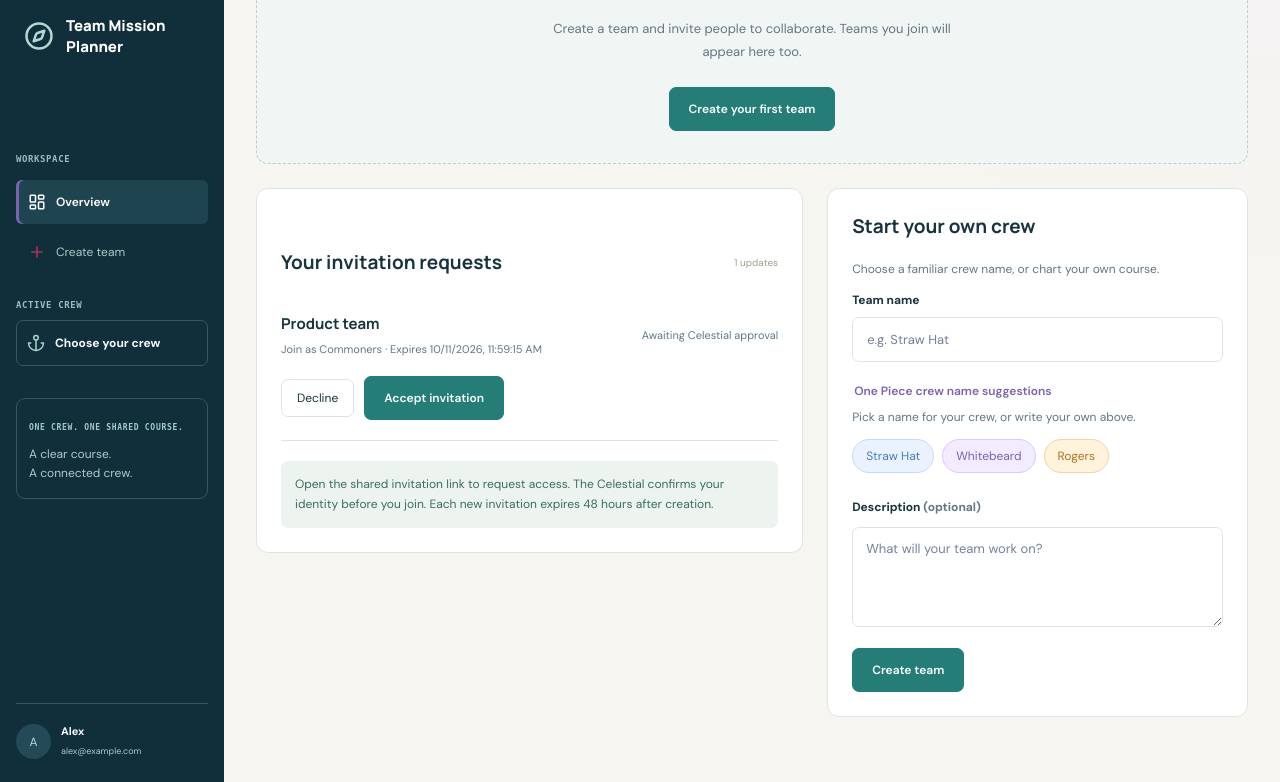
Test: Team and invitation screens › accepts an inbox invitation and navigates to the team
(page scrolled)
Click the button "Accept invitation". click: (434, 398)
box: left=364, top=376, right=504, bottom=420
(page scrolled)
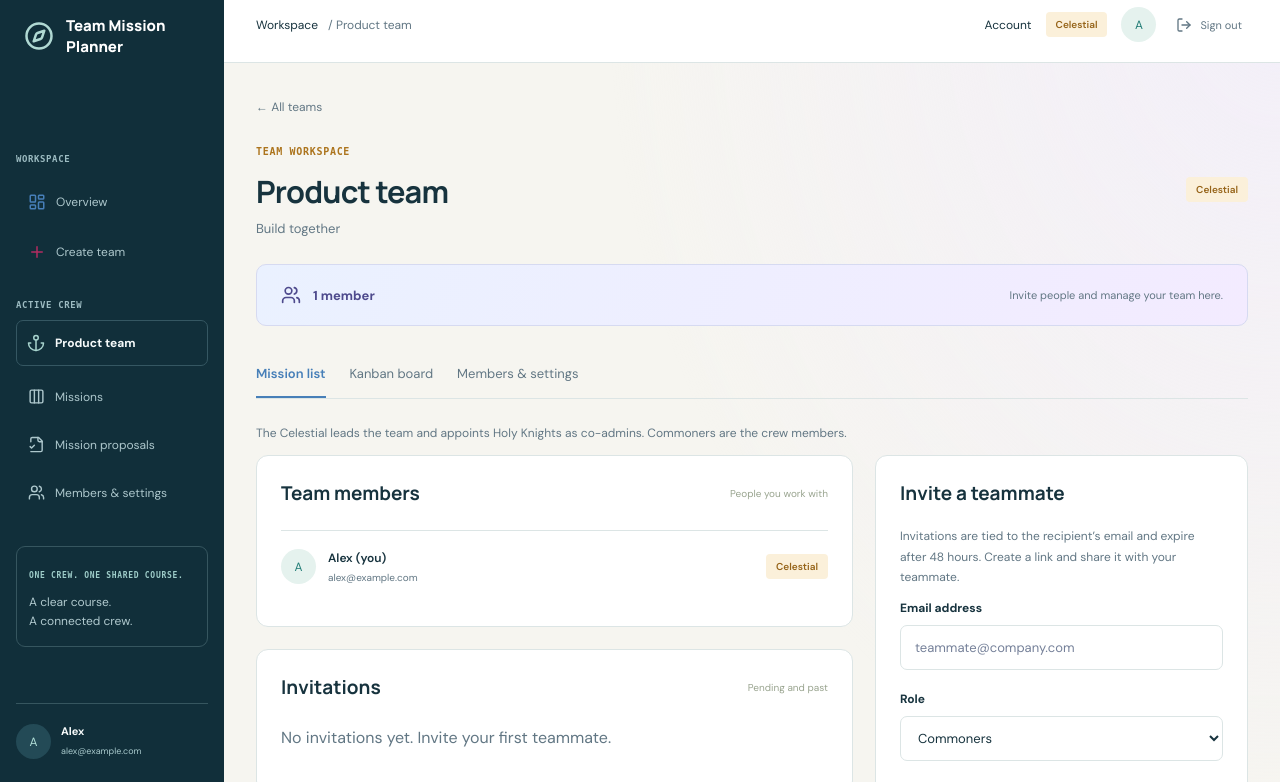
Now the heading "Product team" is shown, box left=256, top=170, right=448, bottom=212
